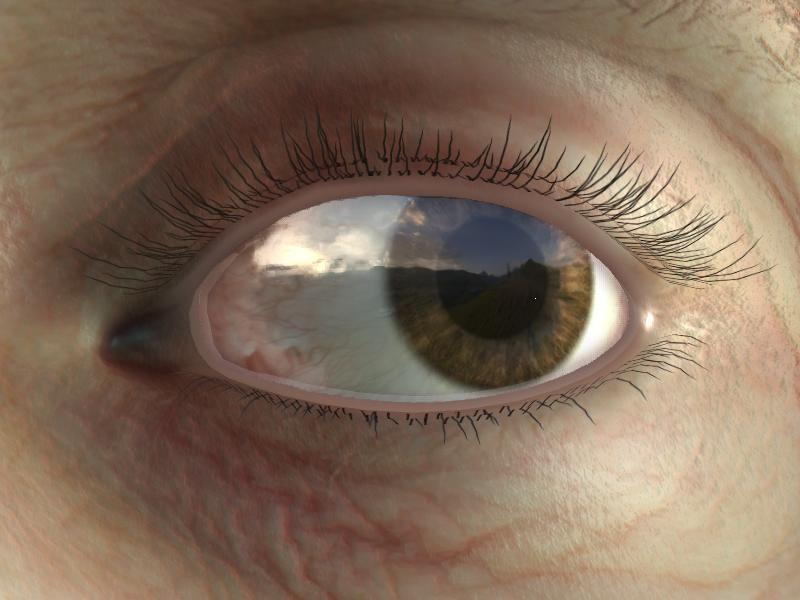eye: (382, 198, 593, 383)
